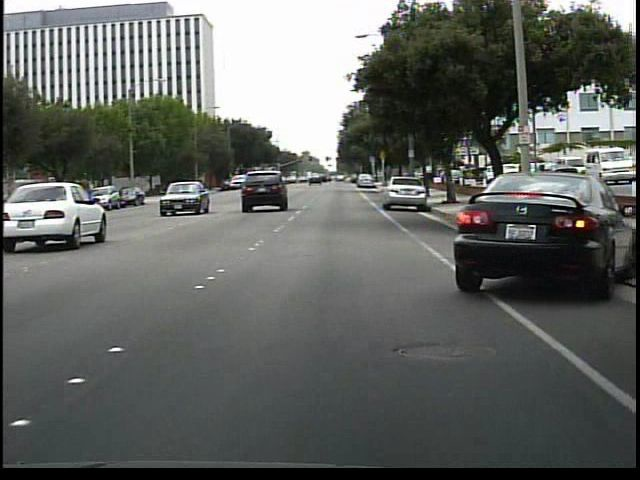person: (516, 161, 536, 214), (533, 159, 554, 197)
